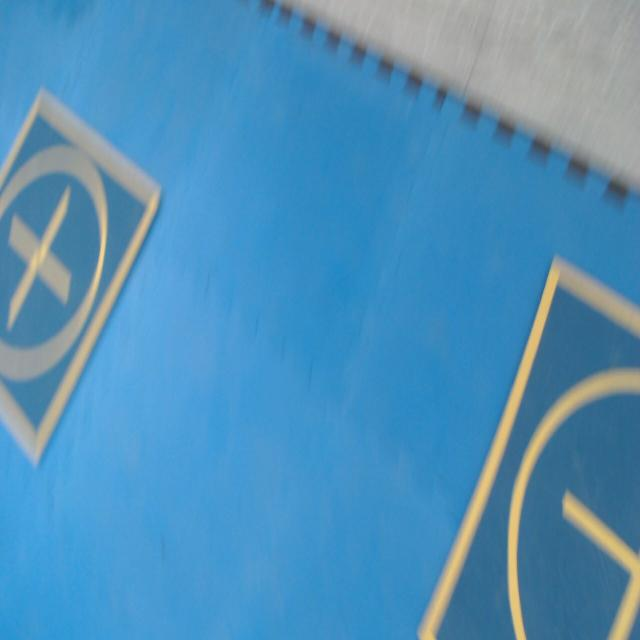base_pouso: (414, 248, 640, 638), (0, 88, 161, 467)
